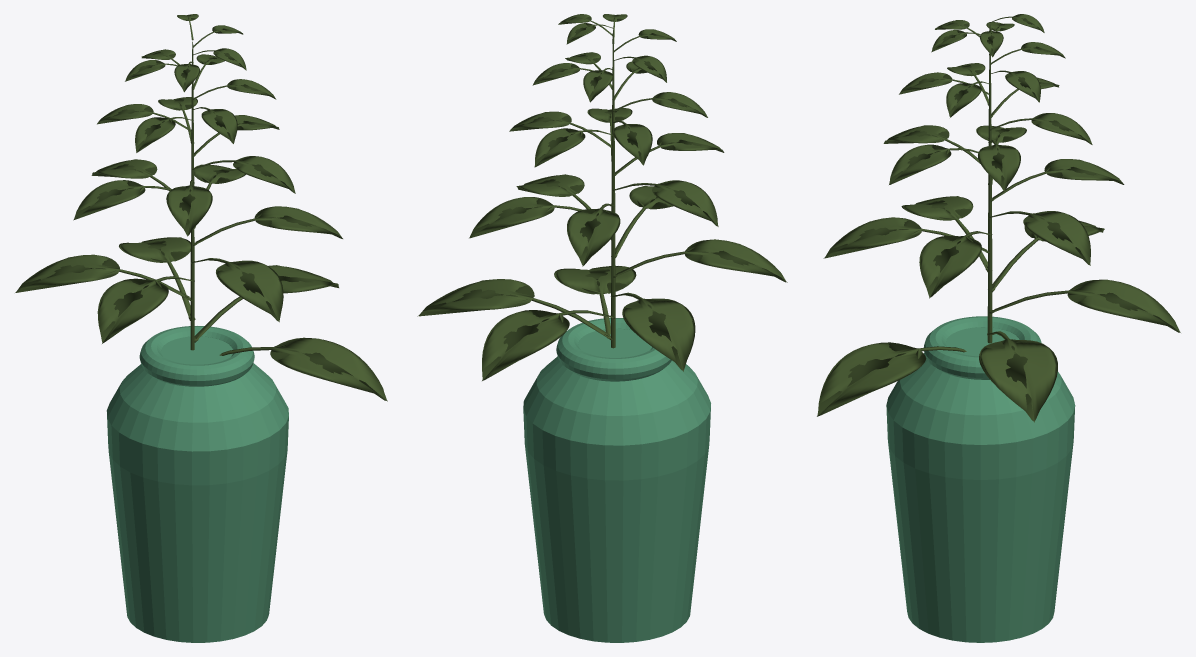
The model's file is vase.fbx.
3 views of the same model, side by side, from view 1: azimuth 30°, elevation 25°; view 2: azimuth 150°, elevation 25°; view 3: azimuth 270°, elevation 25° (orthographic). The views are drawn at different scales.
Parts seen in each view (by area): view 1: vessel.001; view 2: vessel.001; view 3: vessel.001.
Part boxes in pixels (x1,y1,x2,y2): vessel.001: (15, 14, 387, 642); vessel.001: (417, 14, 787, 642); vessel.001: (817, 14, 1180, 642).
Size of the model in its own units: 564 by 1044 by 577.
